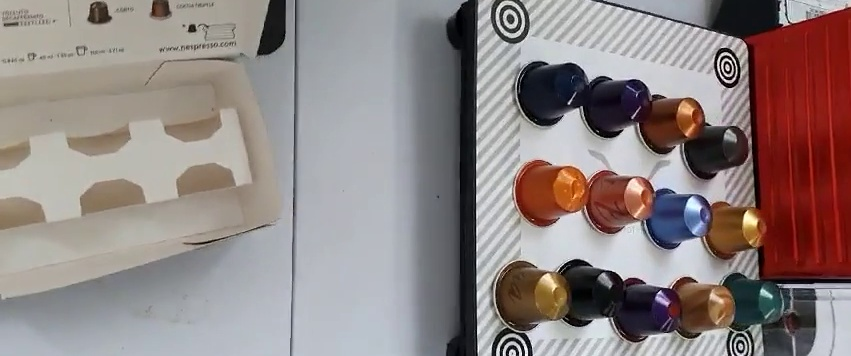capsule_1: (514, 57, 586, 126)
capsule_10: (555, 254, 625, 331)
capsule_11: (610, 270, 682, 343)
capsule_12: (669, 273, 735, 340)
capsule_13: (718, 268, 785, 334)
capsule_2: (584, 71, 652, 142)
capsule_3: (637, 90, 704, 152)
capsule_4: (685, 111, 749, 180)
capsule_5: (514, 156, 588, 228)
capsule_6: (579, 164, 653, 235)
capsule_7: (646, 185, 712, 245)
capsule_8: (703, 200, 769, 261)
capsule_9: (491, 257, 569, 337)
